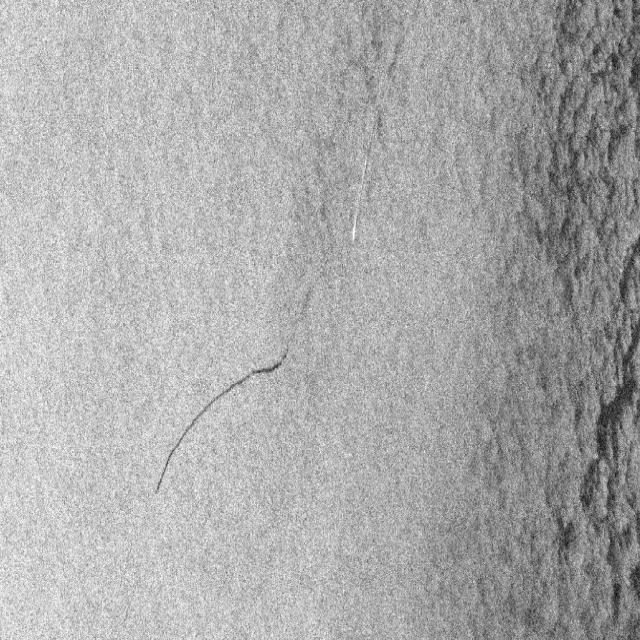look-alike: (535, 16, 639, 303), (563, 324, 640, 621)
oil-spill: (146, 348, 298, 503)
ship: (348, 210, 362, 250)
